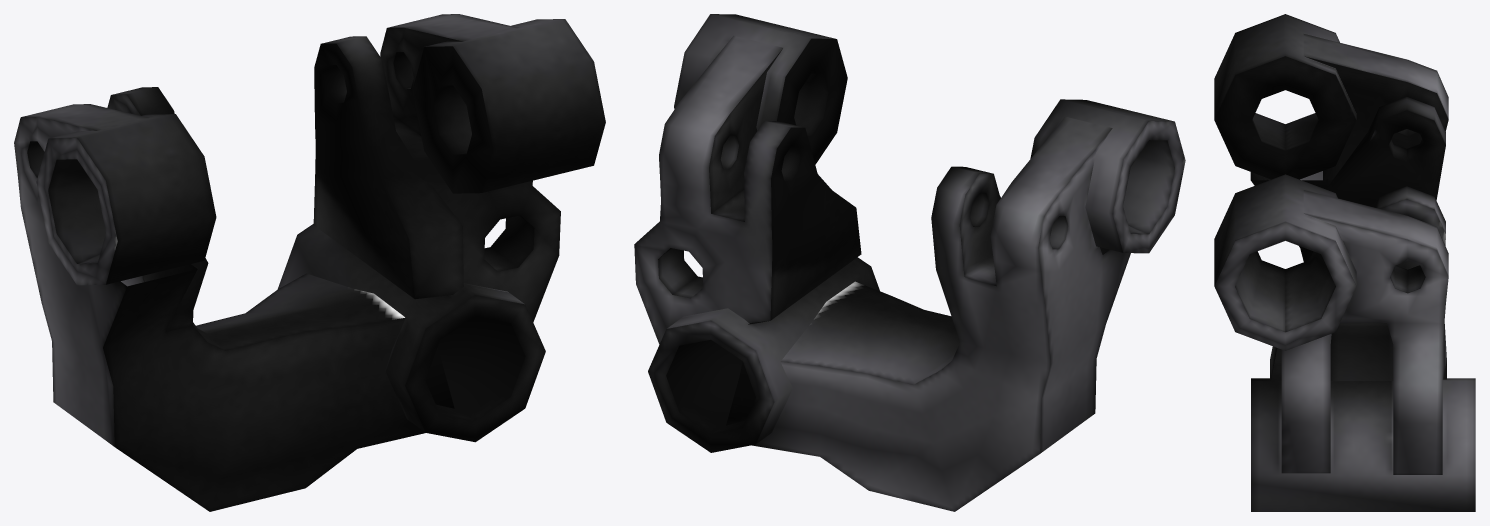
Rendered from l_lglut.dae.
3 renders of one model, left to right at view 1: azimuth 30°, elevation 25°; view 2: azimuth 150°, elevation 25°; view 3: azimuth 270°, elevation 25°, orthographic. The views are drawn at different scales.
Visible parts, largest first — view 1: l_lglut; view 2: l_lglut; view 3: l_lglut.
Part boxes in pixels (left/top/right/bottom): l_lglut: left=14, top=14, right=605, bottom=511; l_lglut: left=634, top=14, right=1185, bottom=511; l_lglut: left=1214, top=14, right=1475, bottom=511.
Bounding box in the file's own units: 0.1439 × 0.0762 × 0.1175.
Materials: 1 (1 with a texture image).
